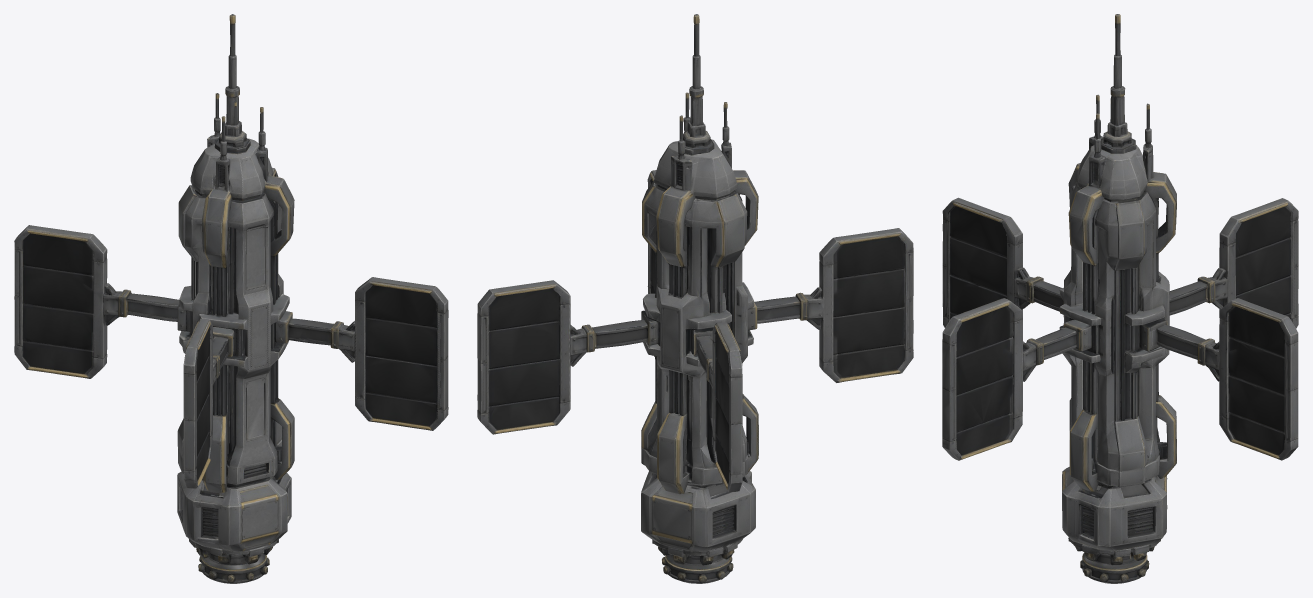
The model's file is shared_system_claim_beacon.glb.
3 views of the same model, side by side, from view 1: azimuth 30°, elevation 25°; view 2: azimuth 150°, elevation 25°; view 3: azimuth 270°, elevation 25° (orthographic).
Visible parts, largest first — view 1: mesh_node; view 2: mesh_node; view 3: mesh_node.
Part boxes in pixels (<box>): mesh_node: <box>14,14,448,583</box>; mesh_node: <box>477,14,913,583</box>; mesh_node: <box>942,14,1298,583</box>.
Bounding box in the file's own units: 9 × 18.29 × 10.47.
1 material, 1 textured.
